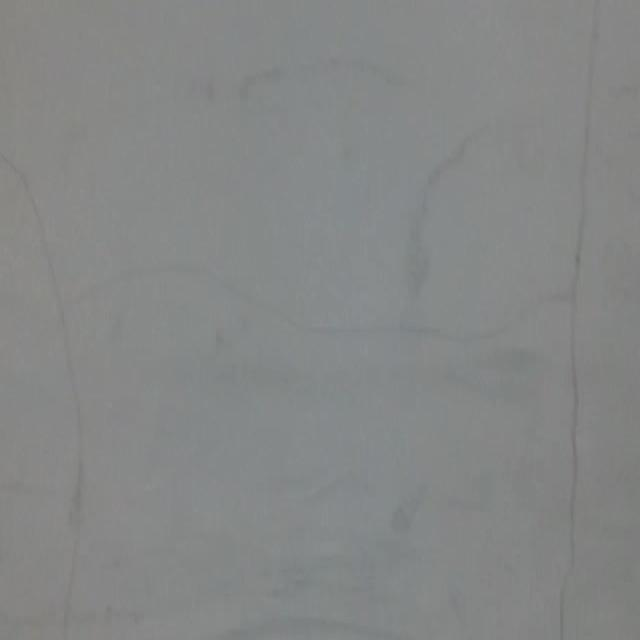Crack: (0, 0, 166, 640), (556, 2, 617, 640), (327, 272, 556, 358)
